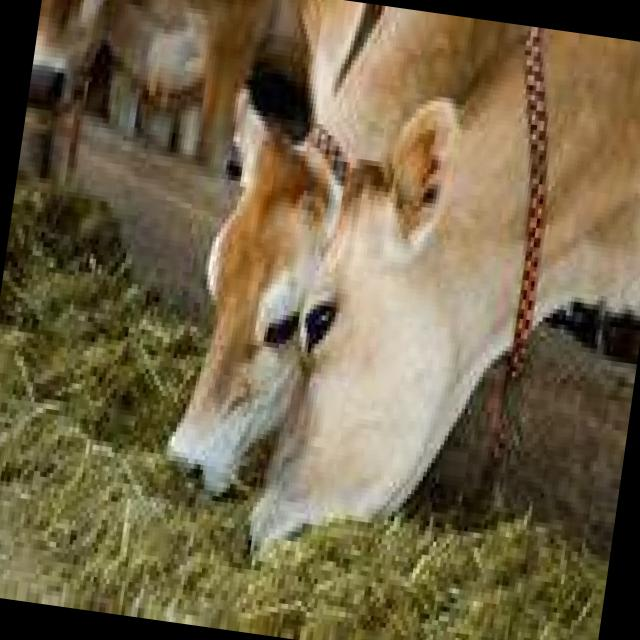animal: (258, 14, 640, 640), (122, 70, 332, 554)
